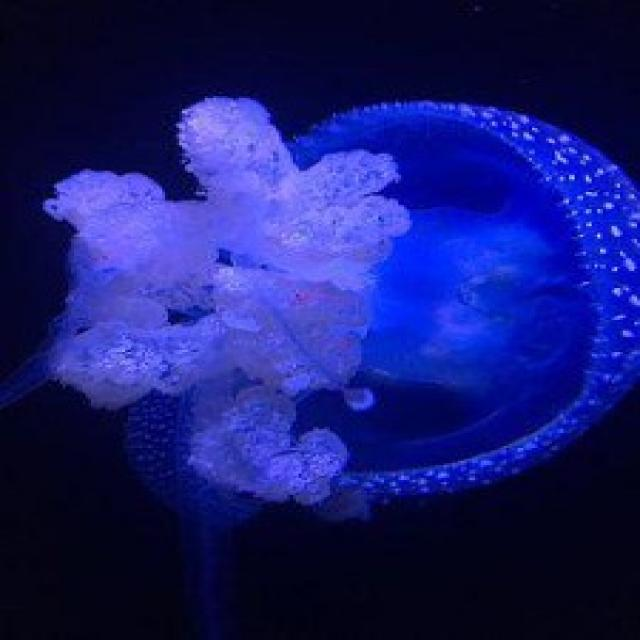Jellyfish: (25, 63, 640, 638)
